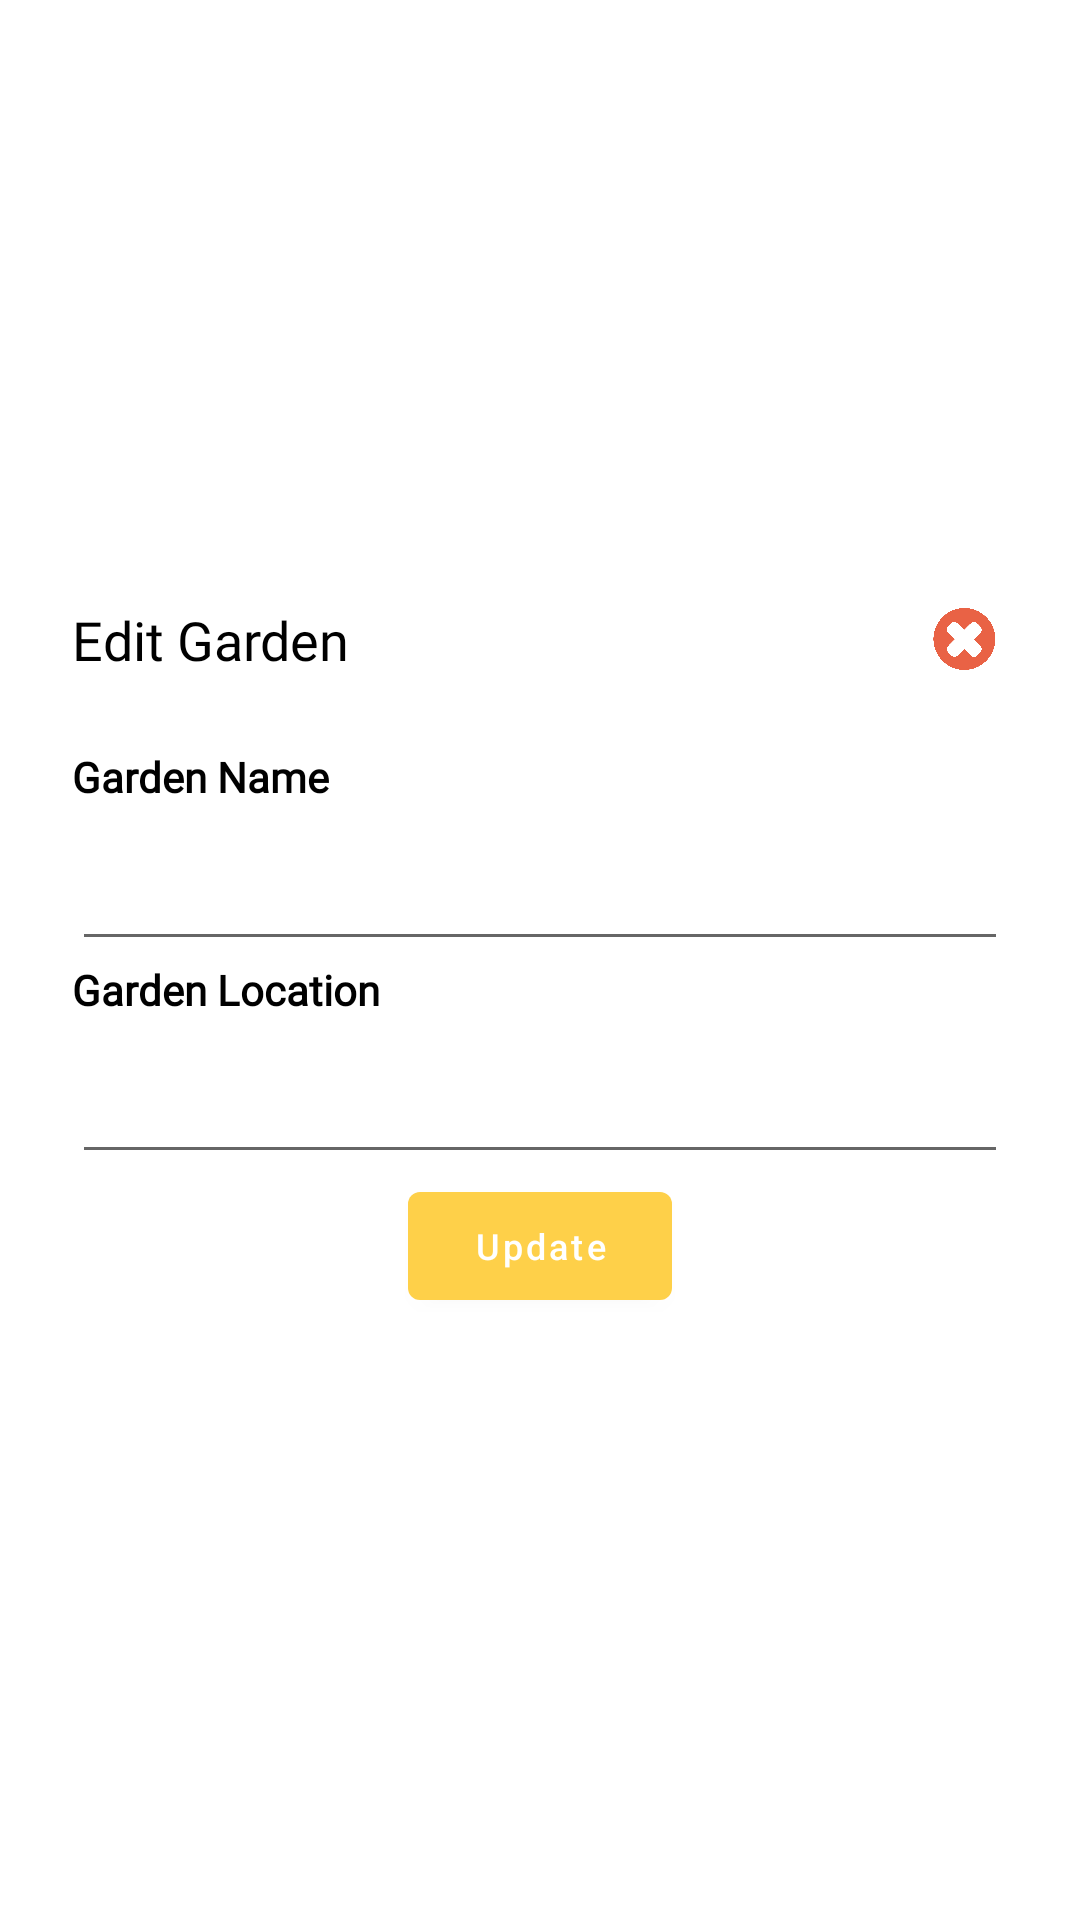

Locate icon controls on the screen. Image size 1080×1920, boxes as (x1,y1,x2,y2).
close: (933,608,995,670)
